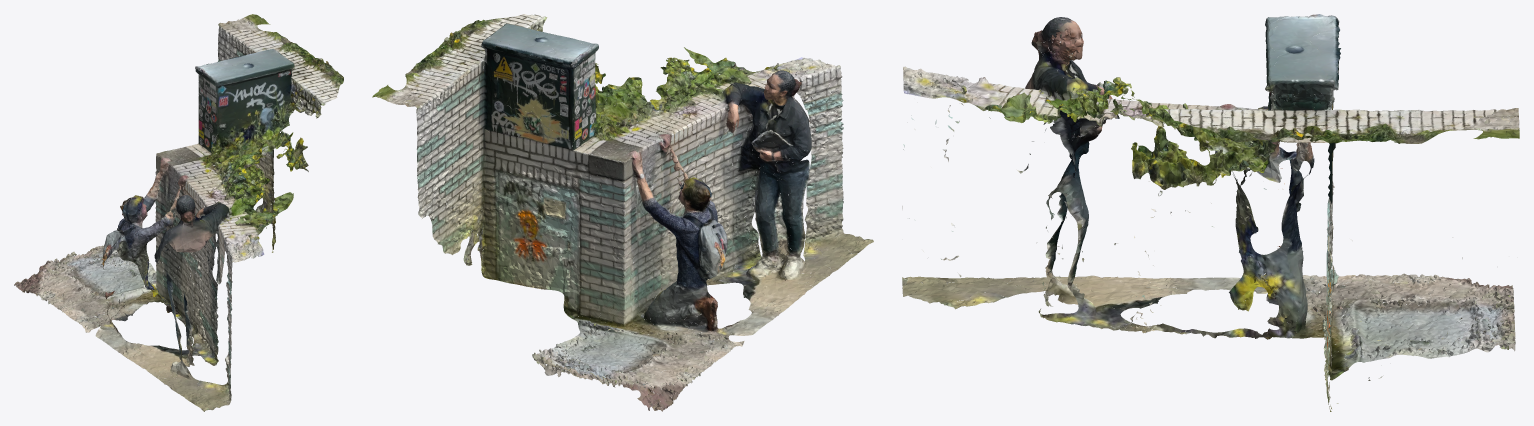
File: S021_StickerAltar.glb
3 renders of one model, left to right at view 1: azimuth 30°, elevation 25°; view 2: azimuth 150°, elevation 25°; view 3: azimuth 270°, elevation 25°, orthographic. The views are drawn at different scales.
Visible parts, largest first — view 1: Mesh; view 2: Mesh; view 3: Mesh.
Boxes of the visible parts, x1=… form: Mesh: x1=14, y1=14, x2=343, y2=411; Mesh: x1=372, y1=14, x2=873, y2=411; Mesh: x1=902, y1=14, x2=1519, y2=411.
Bounding box in the file's own units: 2.66 × 2.37 × 3.5.
Materials: 1 (1 with a texture image).
